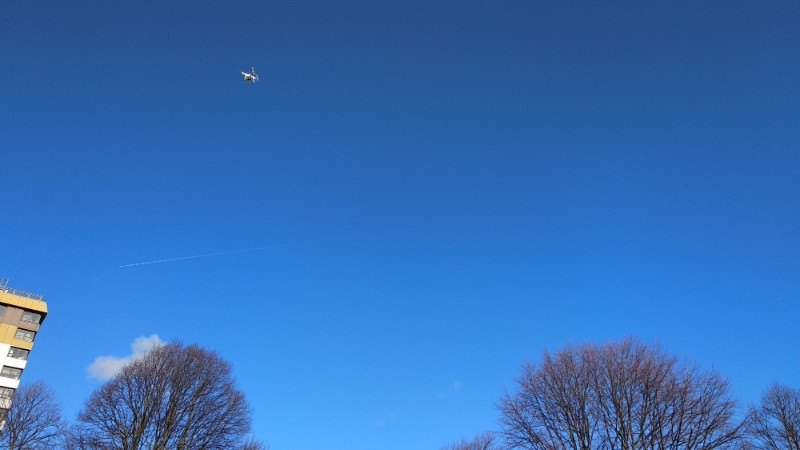drone: (240, 66, 260, 85)
